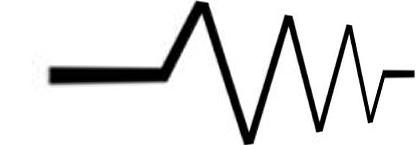resistor: (156, 2, 388, 143)
